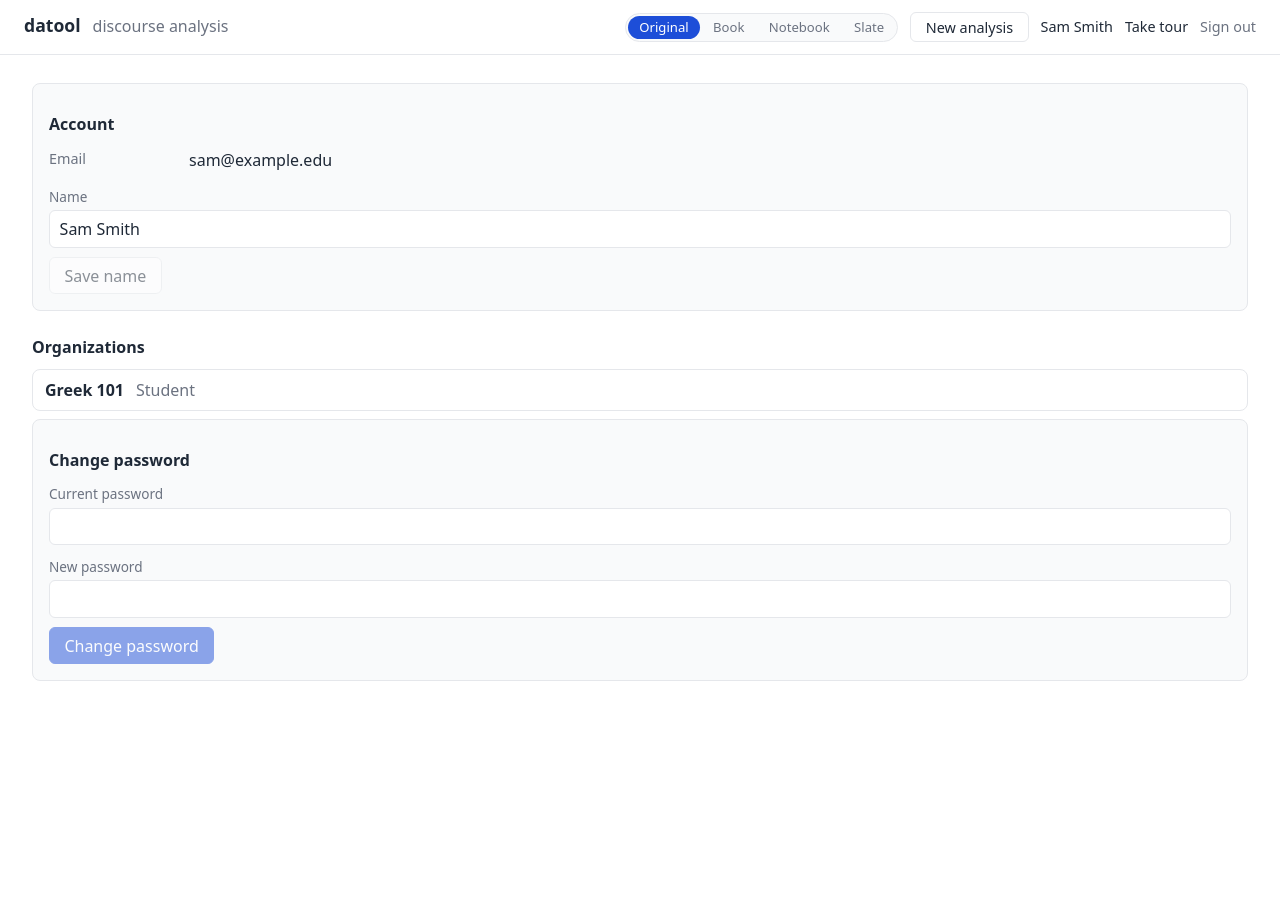
the header › signs out through the API and lands on /login
The width and height of the screenshot is (1280, 900).
Click the button "Sign out" at (1228, 27), box [1200, 16, 1256, 38]
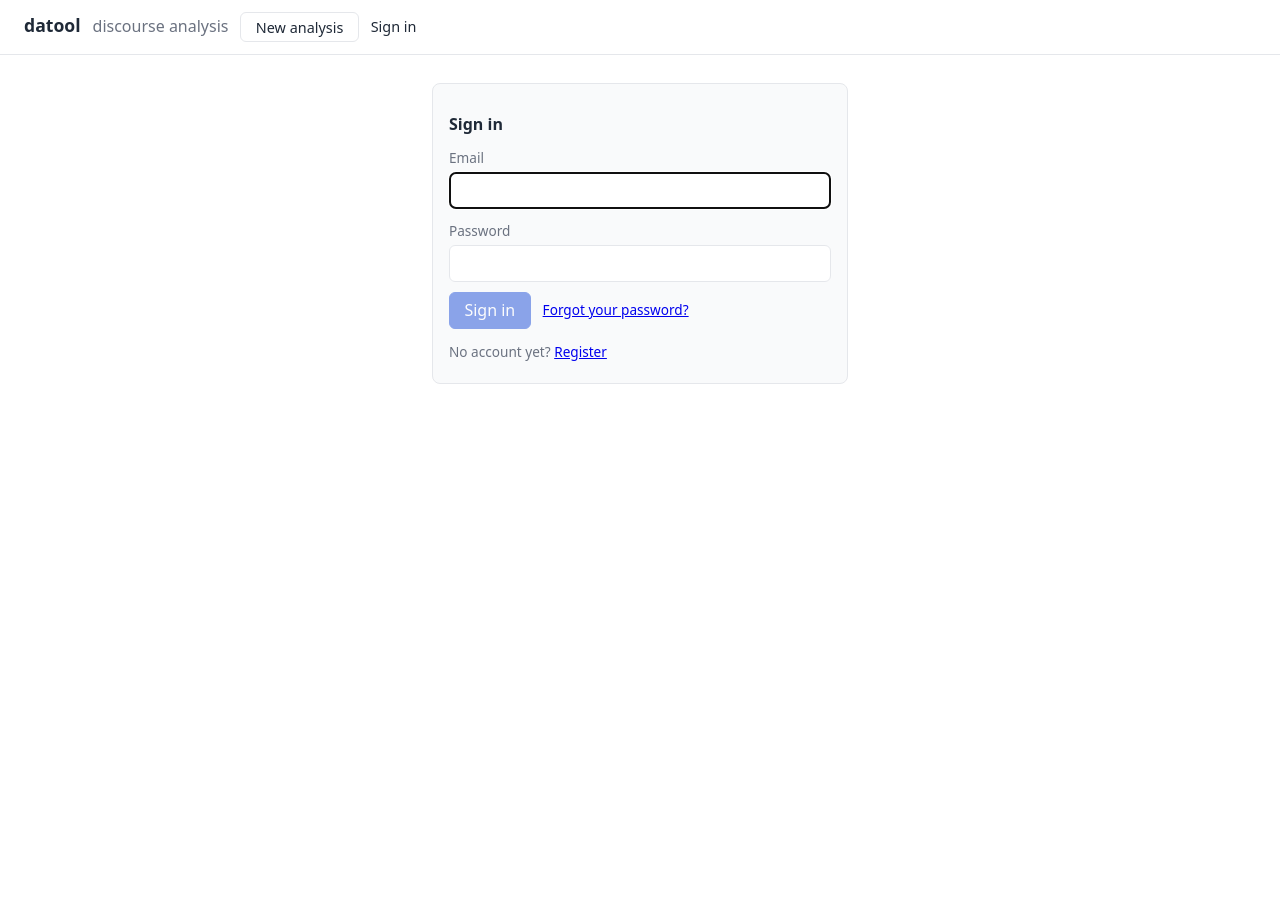
Check: the button "Sign in" is shown, box [449, 292, 531, 329]
